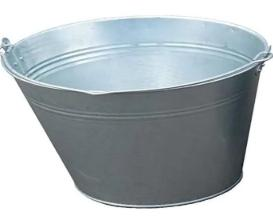SEAU: (0, 18, 273, 216)
